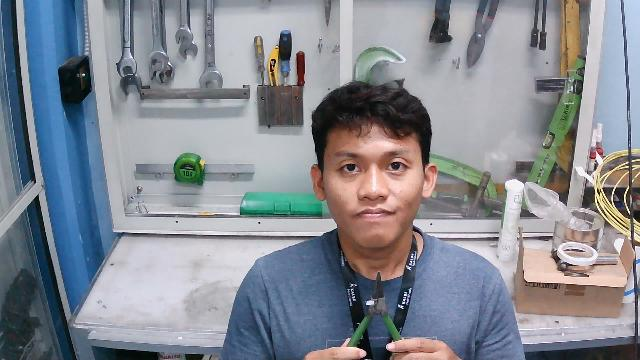tang_cucut_lancip_2: (325, 267, 427, 360)
